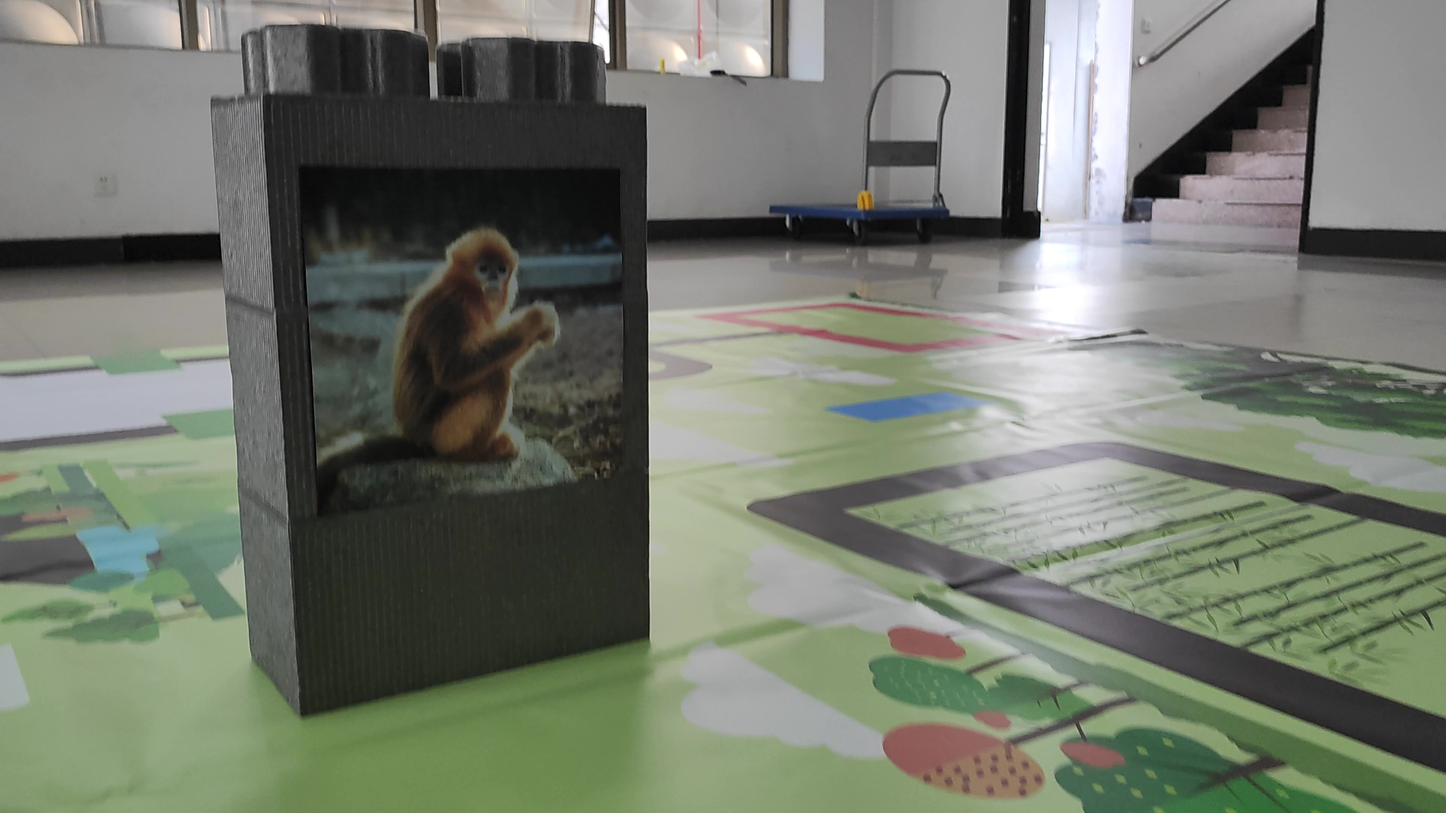monkey: (371, 207, 621, 477)
